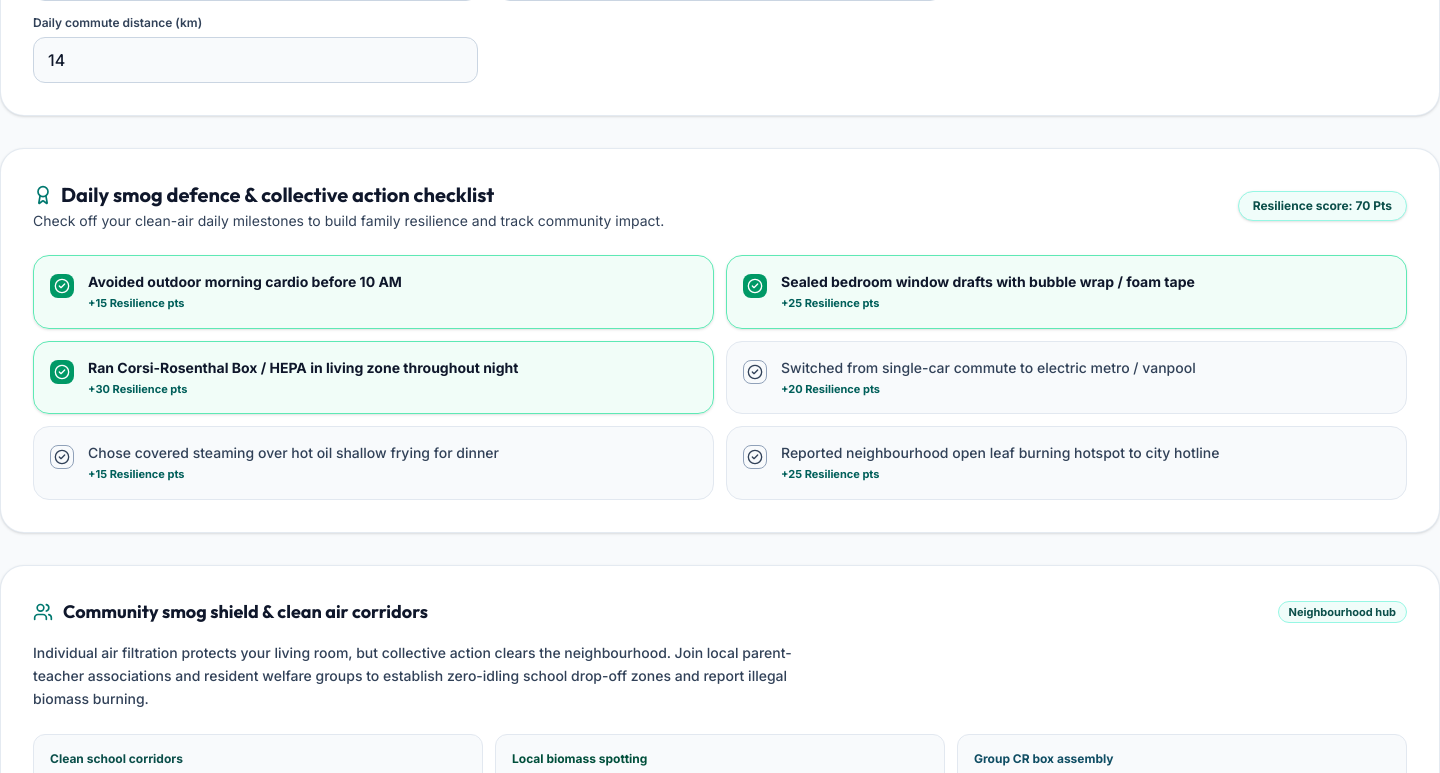
it: Impact ledger interaction › toggles a pledge and awards its resilience points exactly once
(page scrolled)
Click the button with aria-label "toggle this pledge": {"x": 1066, "y": 378} [726, 341, 1407, 414]
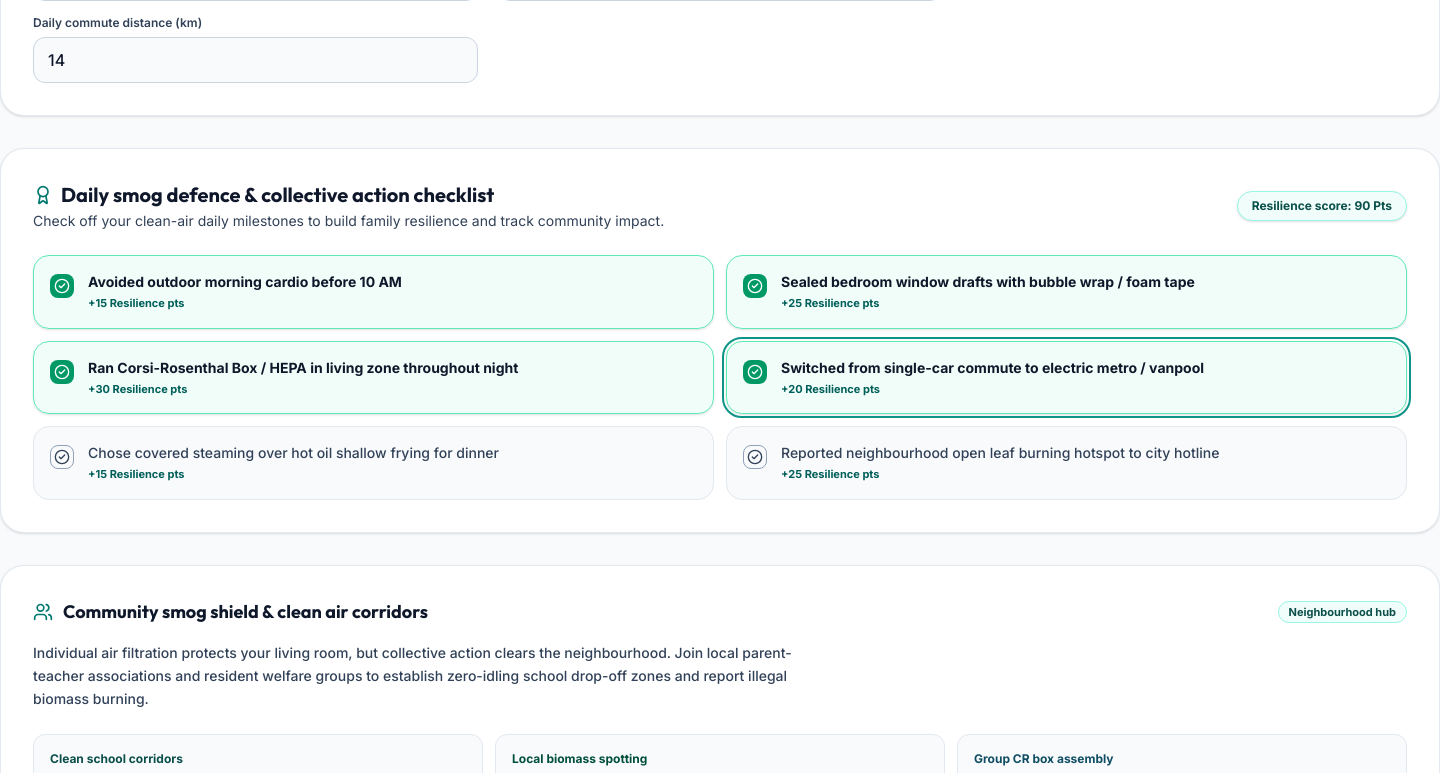
expect the button with aria-label "toggle this pledge" is pressed: met, box [726, 341, 1407, 414]
